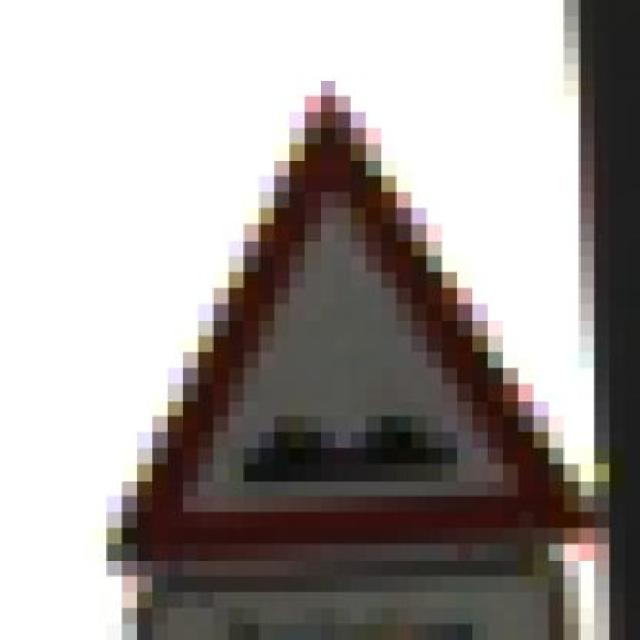Uneven Road: (107, 64, 595, 576)
